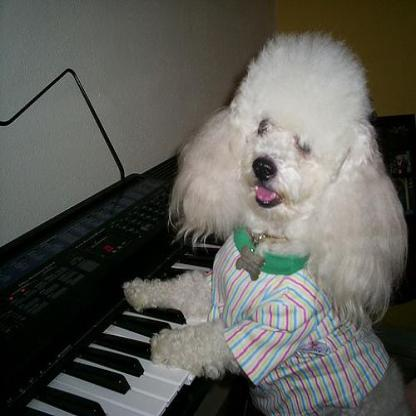toy_poodle: (116, 24, 406, 410)
